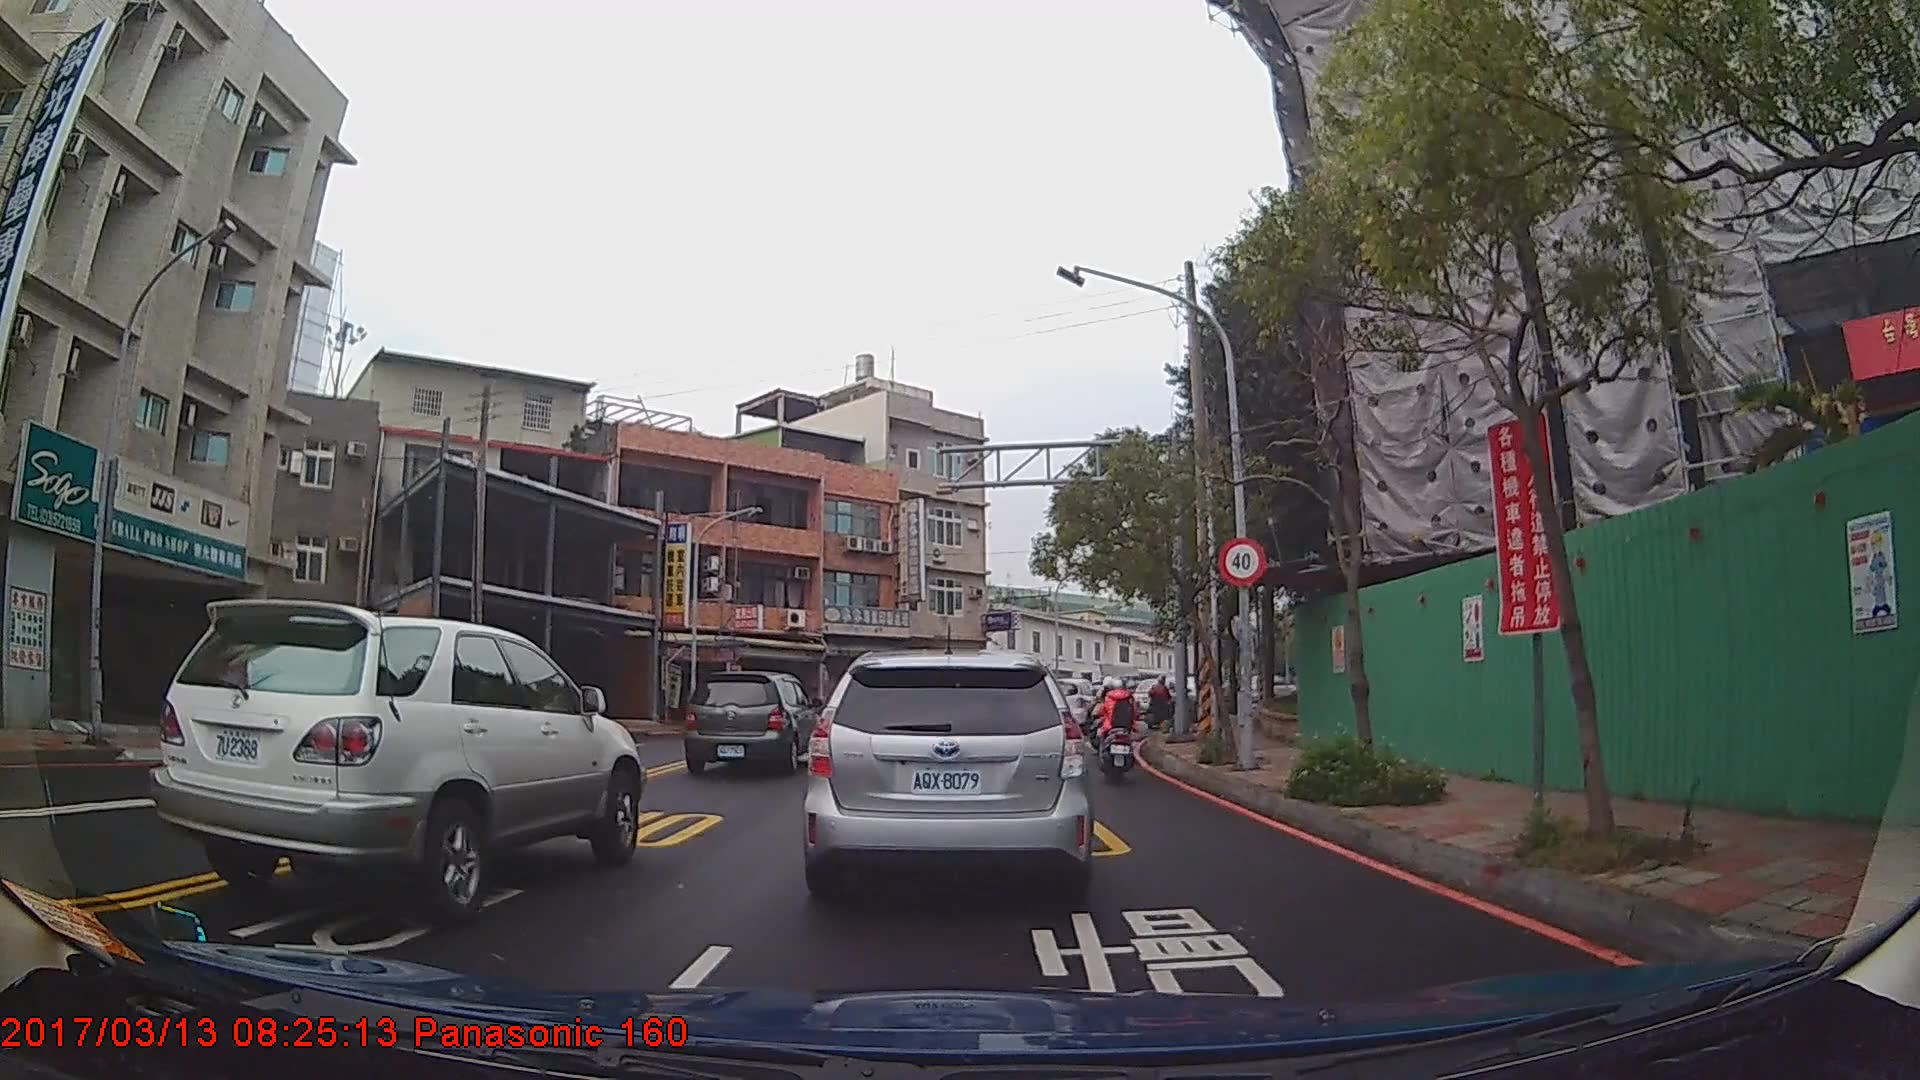rider: (1095, 676, 1145, 776), (1146, 676, 1179, 733)
vehicle: (151, 596, 645, 921), (800, 648, 1093, 908), (679, 667, 818, 770)
